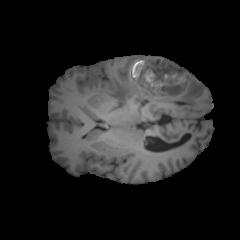glioma: (108, 56, 201, 111)
